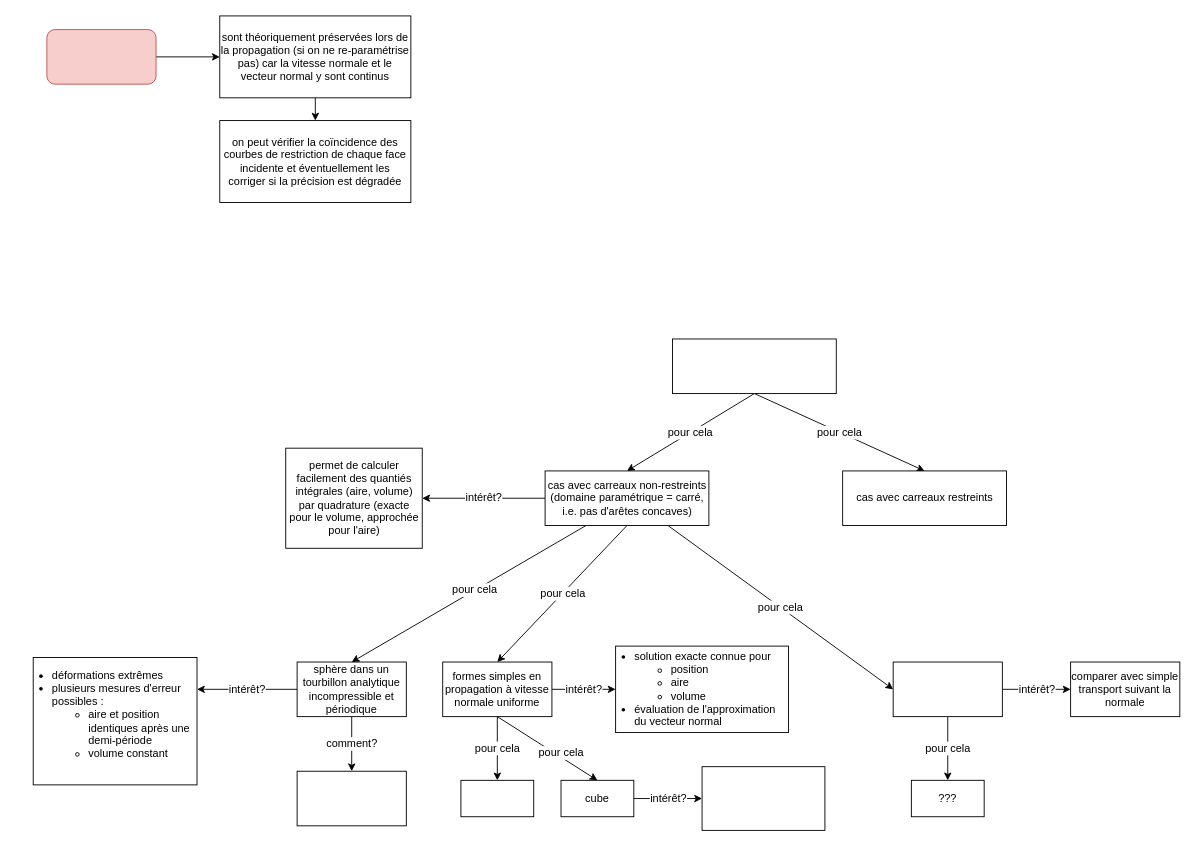
Image size: 1196x846. Some labels were removed from this diagram. Each missing label, with the centre of its shape:
"arêtes vives convexes converties en face lors de la construction de l'EdB" goes at [763,798].
"intégration du champ de vitesse avec RK4" goes at [351,798].
"propagation à vitesse normale non-uniforme" goes at [947,689].
"robustesse/précision des intersections tangentielles?" goes at [101,56].
"sphère, tore" goes at [497,798].
"valider l'algorithme et la méthode numérique" goes at [754,366].
